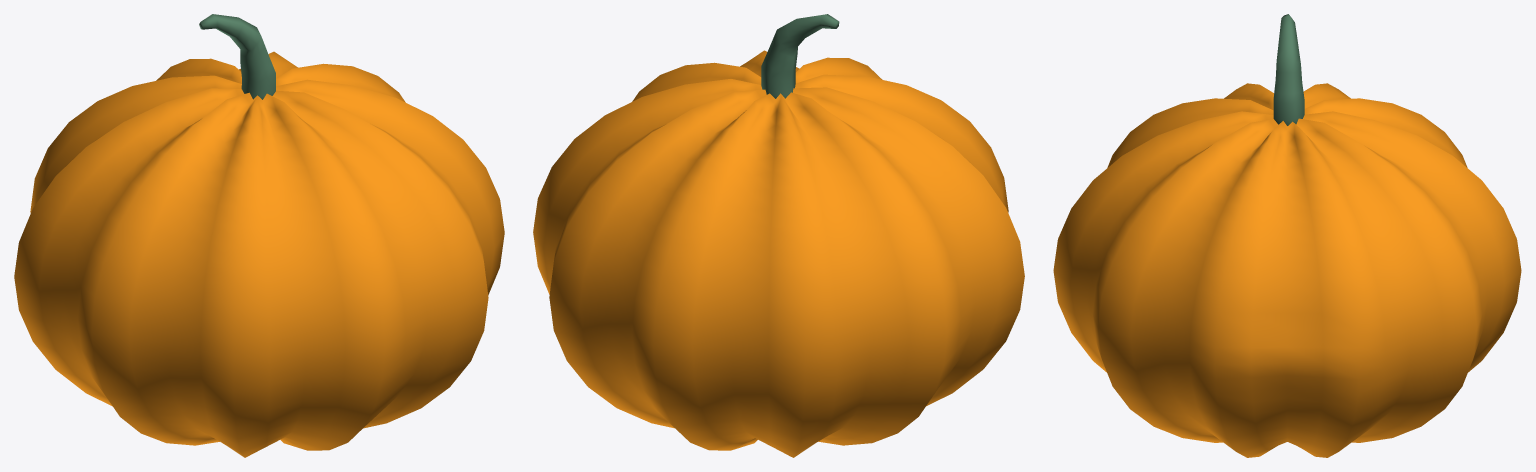
File: pumpkin.glb
3 views of the same model, side by side, from view 1: azimuth 30°, elevation 25°; view 2: azimuth 150°, elevation 25°; view 3: azimuth 270°, elevation 25° (orthographic). The views are drawn at different scales.
Parts seen in each view (by area): view 1: Cylinder; view 2: Cylinder; view 3: Cylinder.
Boxes of the visible parts, bbox=[...] form: Cylinder: bbox=[14, 14, 504, 457]; Cylinder: bbox=[533, 14, 1024, 457]; Cylinder: bbox=[1053, 14, 1521, 457].
Size of the model in its own units: 5.13 by 5 by 5.39.
1 material, 1 textured.
